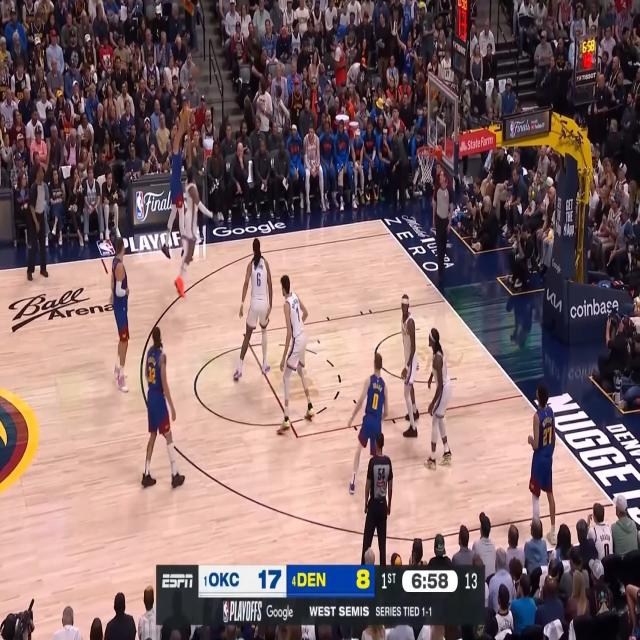ball: (190, 64, 200, 80)
number: (146, 364, 156, 387), (371, 389, 380, 409), (542, 426, 552, 444), (256, 272, 262, 288), (294, 306, 300, 322)
player: (140, 326, 186, 491), (346, 351, 388, 498), (278, 274, 315, 435), (232, 237, 272, 382), (526, 384, 558, 544), (424, 327, 453, 473), (109, 236, 133, 395), (399, 292, 423, 441)
player-jump-shot: (160, 99, 188, 259)
player-shot-block: (174, 131, 218, 298)
referee: (360, 432, 393, 564), (26, 164, 51, 281), (431, 166, 453, 293)
rim: (417, 143, 437, 157)
